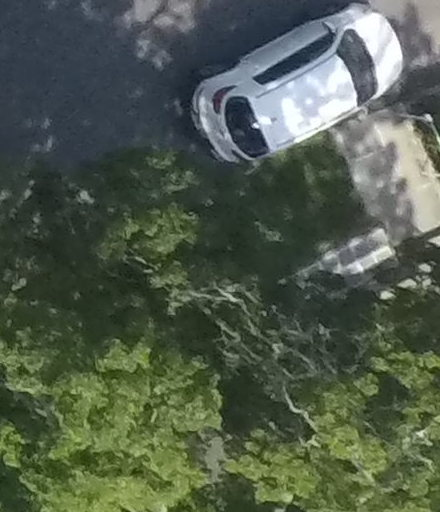car: (196, 1, 424, 178)
